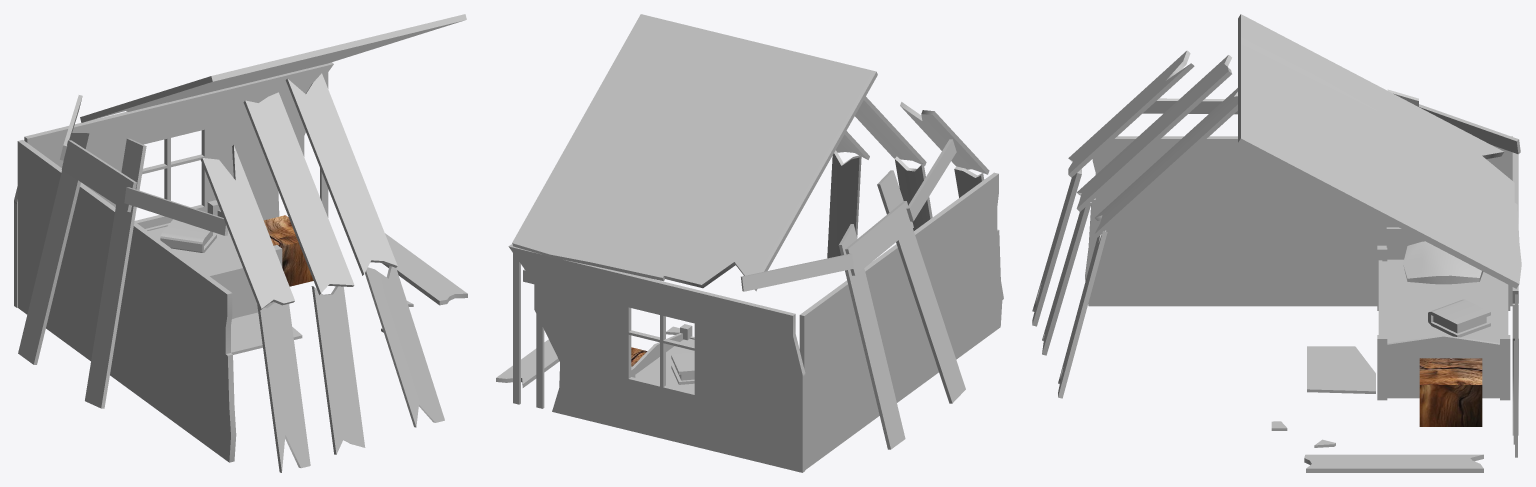
The model's file is OldShack.fbx.
The picture shows the model from 3 angles, left to right: view 1: azimuth 30°, elevation 25°; view 2: azimuth 150°, elevation 25°; view 3: azimuth 270°, elevation 25°; orthographic projection. The views are drawn at different scales.
Parts seen in each view (by area): view 1: pCube1, pCube4, pCube10, pCube11, pCube9, pCube32, pCube5, pCube3, pCube12, pCube6, pCube31, pCube14 (+6 smaller); view 2: pCube12, pCube4, pCube1, pCube32, pCube31, pCube6, pCube33, pCube34, pCube9, pCube10, pCube5, pCube7 (+6 smaller); view 3: pCube1, pCube12, pCube14, pCube23, pCube10, pCube13, pCube11, pCube24, pCube9, pCube27, pCube21, pCube30 (+9 smaller).
Boxes of the visible parts, x1,y1,x2,y2 form: pCube1: [17, 140, 236, 462]; pCube4: [14, 62, 333, 307]; pCube10: [243, 92, 354, 294]; pCube11: [285, 73, 397, 275]; pCube9: [201, 145, 294, 310]; pCube32: [85, 138, 146, 408]; pCube5: [311, 286, 365, 454]; pCube3: [257, 301, 310, 472]; pCube12: [80, 14, 466, 122]; pCube6: [365, 265, 444, 427]; pCube31: [18, 133, 92, 364]; pCube14: [148, 226, 271, 319]; pCube12: [512, 14, 877, 291]; pCube4: [508, 244, 805, 472]; pCube1: [799, 172, 1002, 469]; pCube32: [877, 170, 965, 403]; pCube31: [838, 224, 905, 449]; pCube6: [827, 150, 861, 258]; pCube33: [845, 201, 913, 275]; pCube34: [741, 253, 853, 291]; pCube9: [900, 102, 989, 174]; pCube10: [855, 96, 926, 165]; pCube5: [895, 156, 932, 230]; pCube7: [513, 253, 520, 404]; pCube1: [1085, 136, 1512, 306]; pCube12: [1238, 14, 1521, 288]; pCube14: [1382, 259, 1504, 398]; pCube23: [1419, 358, 1482, 426]; pCube10: [1076, 55, 1231, 211]; pCube13: [1304, 454, 1483, 472]; pCube11: [1094, 88, 1237, 237]; pCube24: [1307, 346, 1375, 393]; pCube9: [1068, 50, 1194, 177]; pCube27: [1403, 241, 1483, 284]; pCube21: [1387, 335, 1499, 358]; pCube30: [1428, 299, 1490, 337].
Bounding box in the file's own units: 19.02 × 14.7 × 20.42.
